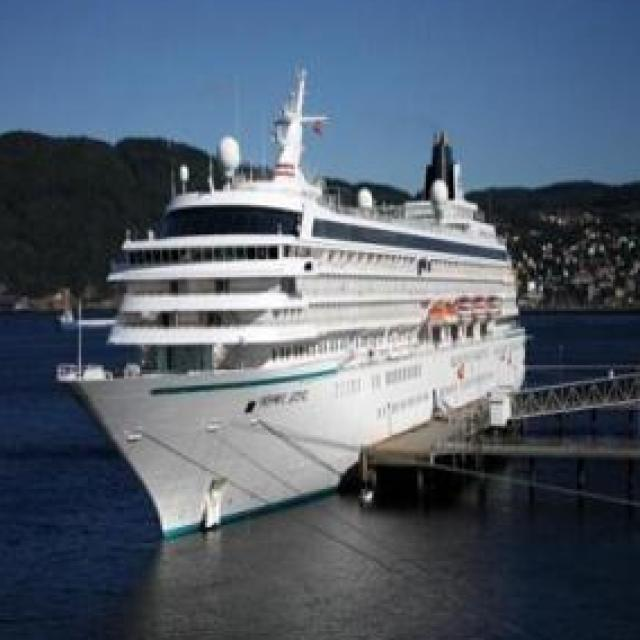passenger ship: (70, 106, 530, 545)
